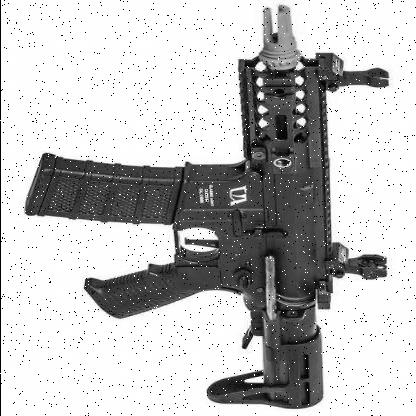rifle: (31, 6, 404, 412)
